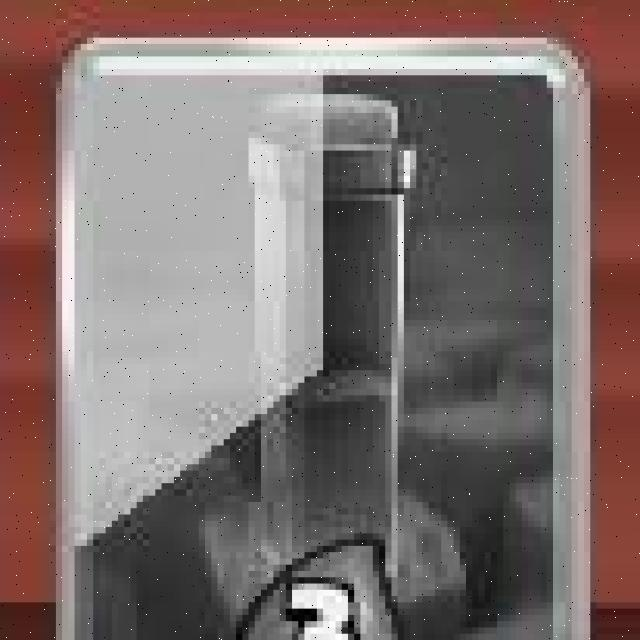Earthquake: (48, 31, 595, 640)
